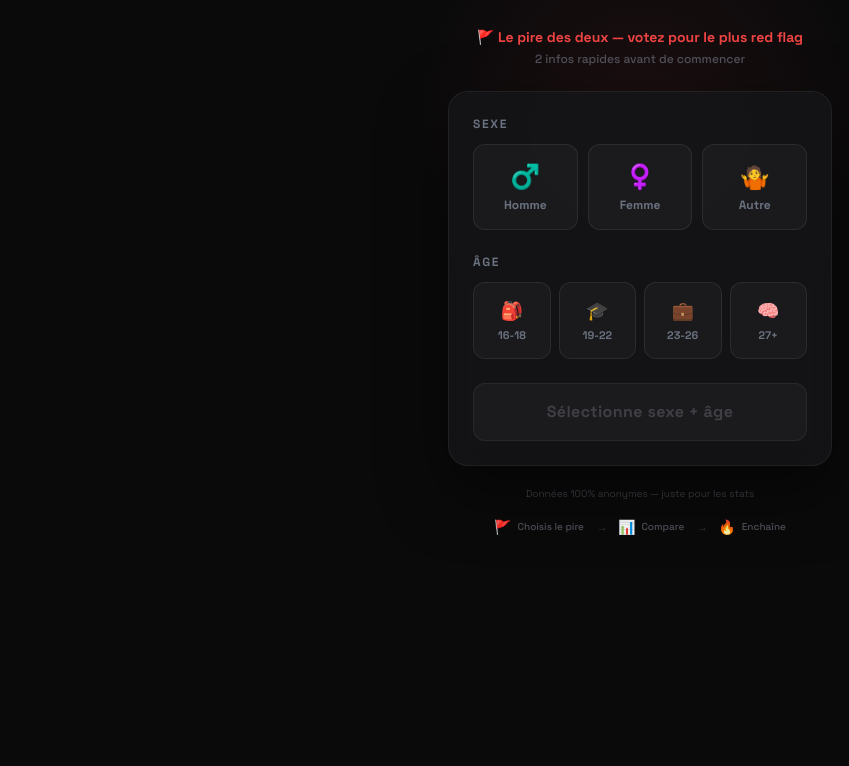
Test case: ProfileForm › affiche le CTA "C'EST PARTI" quand sexe et âge sont sélectionnés
The image size is (849, 766).
Click the radio button labelled "Homme". click: coordinates (525, 187)
box: [473,144,578,230]
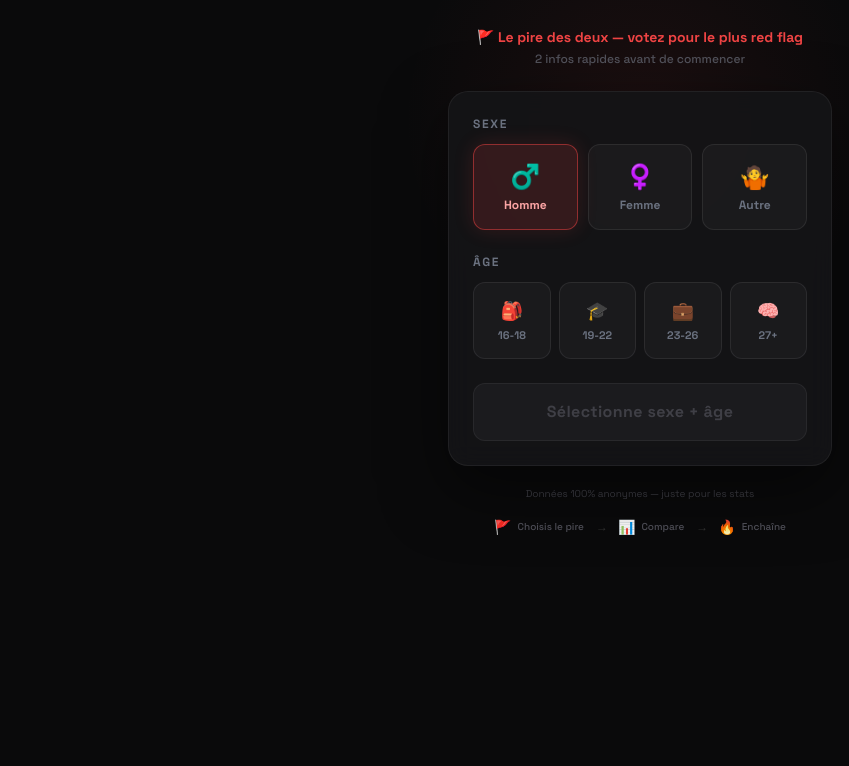
Click the radio button named "23-26 ans". click: coordinates (683, 321)
box: [644,282,722,359]
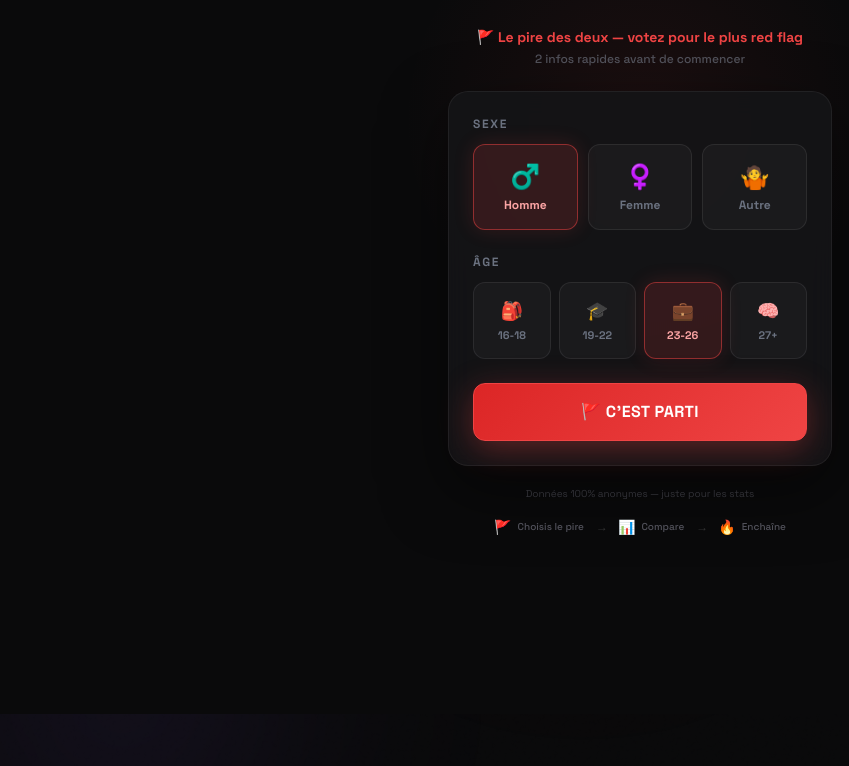
Check: the button "🚩 C'EST PARTI" is shown, box [473,383,807,441]
